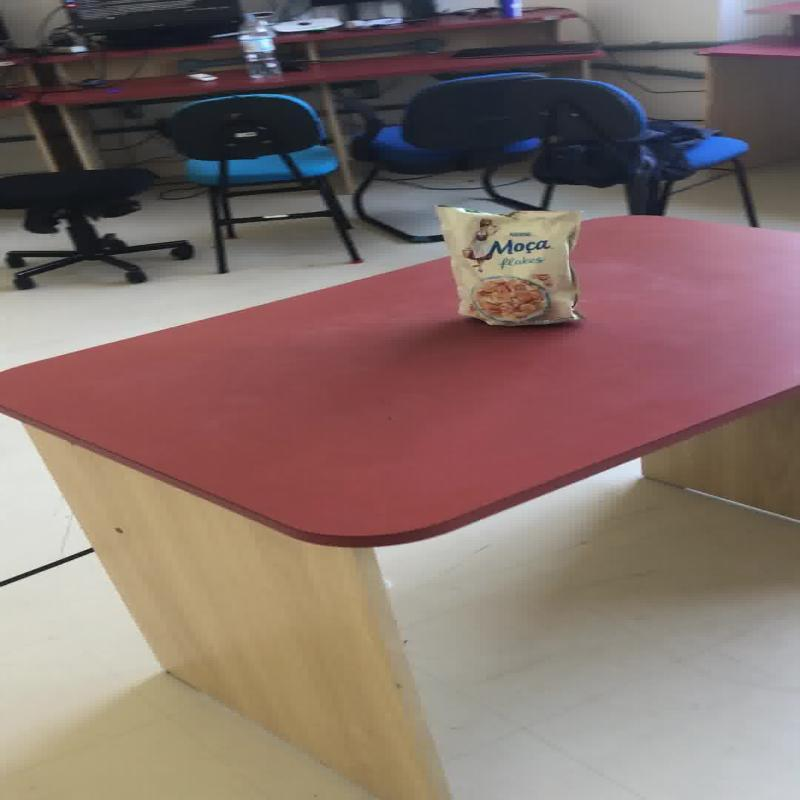corn flakes: (433, 204, 582, 325), (472, 276, 548, 322)
